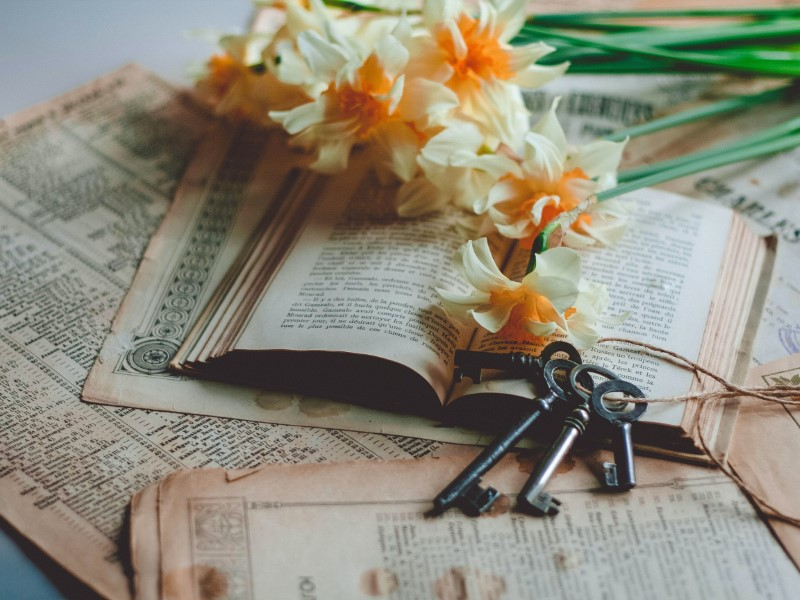key: (428, 339, 654, 520)
